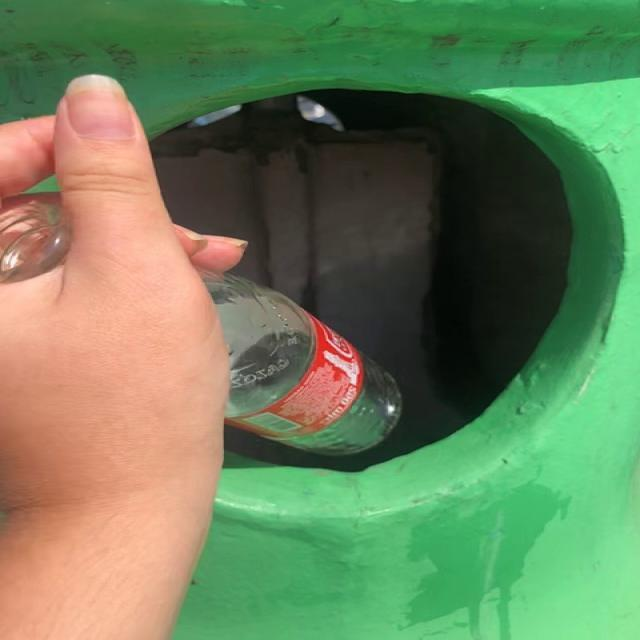Glass: (203, 272, 401, 456), (1, 193, 71, 284)
